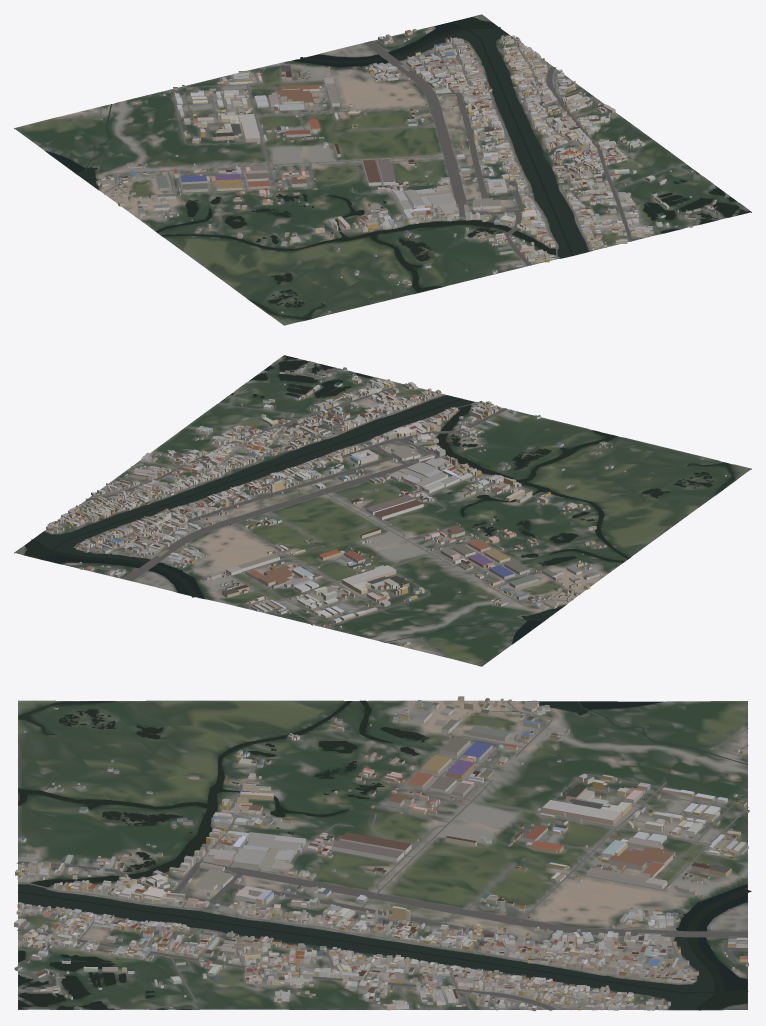
The picture shows the model from 3 angles, top to bottom: view 1: azimuth 30°, elevation 25°; view 2: azimuth 150°, elevation 25°; view 3: azimuth 270°, elevation 25°; orthographic projection. The views are drawn at different scales.
Parts seen in each view (by area): view 1: ground, buildings, water, roads; view 2: ground, buildings, water, roads; view 3: ground, buildings, water, roads.
Part boxes in pixels (x1,y1,x2,y2): ground: (14, 14, 751, 325); buildings: (95, 29, 719, 312); water: (45, 17, 750, 319); roads: (56, 31, 704, 265); ground: (14, 356, 751, 666); buildings: (46, 364, 726, 645); water: (24, 355, 734, 643); roads: (50, 384, 570, 655); ground: (18, 700, 747, 1010); buildings: (14, 696, 749, 1011); water: (18, 700, 751, 1010); roads: (17, 700, 748, 1010).
Size of the model in its own units: 1409 by 31.42 by 1416.
